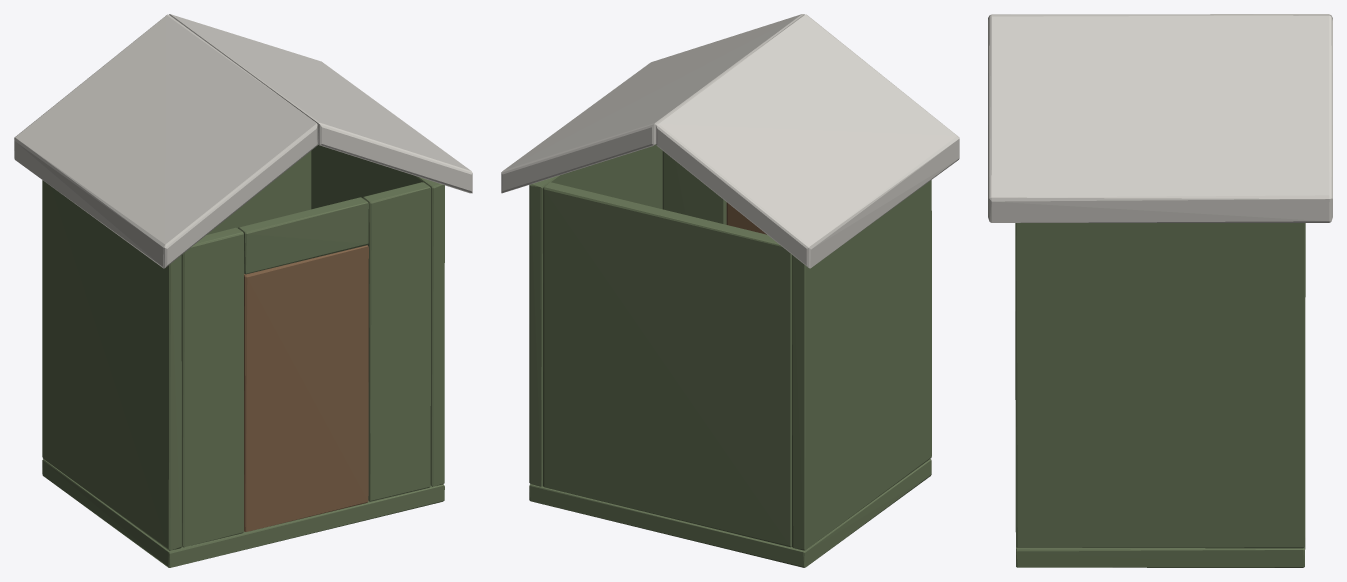
Rendered from SM_Kit_Prop_GardenShed_LOD1.glb.
The picture shows the model from 3 angles, left to right: view 1: azimuth 30°, elevation 25°; view 2: azimuth 150°, elevation 25°; view 3: azimuth 270°, elevation 25°; orthographic projection. The views are drawn at different scales.
Visible parts, largest first — view 1: SM_Kit_Prop_GardenShed_LOD1; view 2: SM_Kit_Prop_GardenShed_LOD1; view 3: SM_Kit_Prop_GardenShed_LOD1.
Part boxes in pixels (x1,y1,x2,y2): SM_Kit_Prop_GardenShed_LOD1: [14, 14, 472, 567]; SM_Kit_Prop_GardenShed_LOD1: [501, 14, 959, 567]; SM_Kit_Prop_GardenShed_LOD1: [988, 14, 1332, 567].
Size of the model in its own units: 2.24 by 2.9 by 1.9.
